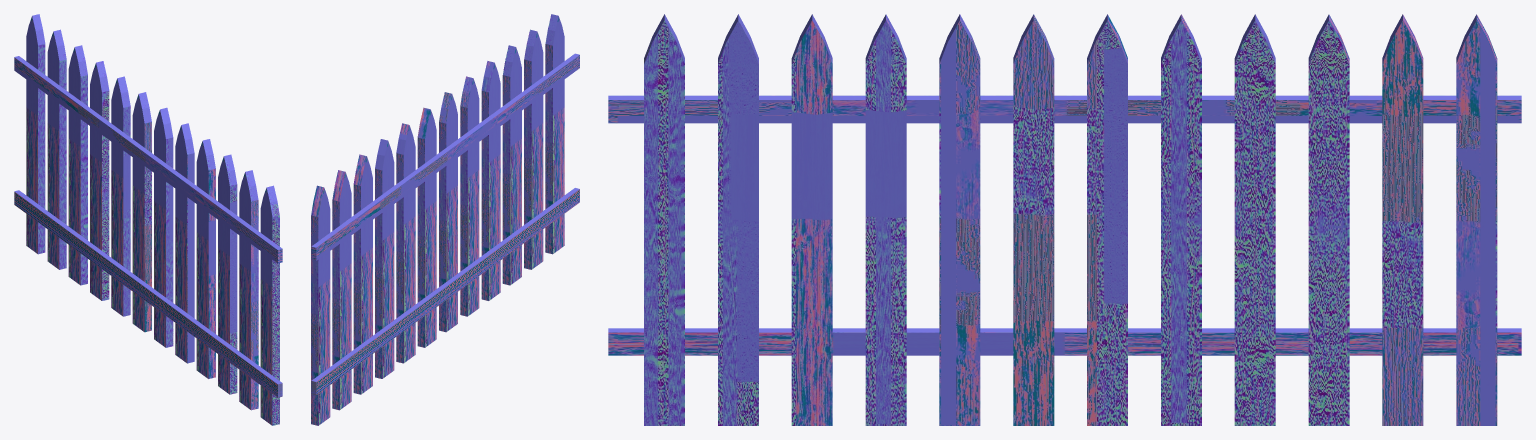
File: drvena_ograda.fbx
3 views of the same model, side by side, from view 1: azimuth 30°, elevation 25°; view 2: azimuth 150°, elevation 25°; view 3: azimuth 270°, elevation 25° (orthographic). The views are drawn at different scales.
Parts seen in each view (by area): view 1: drvena ogrda; view 2: drvena ogrda; view 3: drvena ogrda.
Part boxes in pixels (left/top/right/bottom): drvena ogrda: left=14, top=14, right=282, bottom=425; drvena ogrda: left=311, top=14, right=579, bottom=425; drvena ogrda: left=608, top=14, right=1521, bottom=425.
Size of the model in its own units: 1745 by 47.11 by 855.
Materials: 1 (1 with a texture image).
